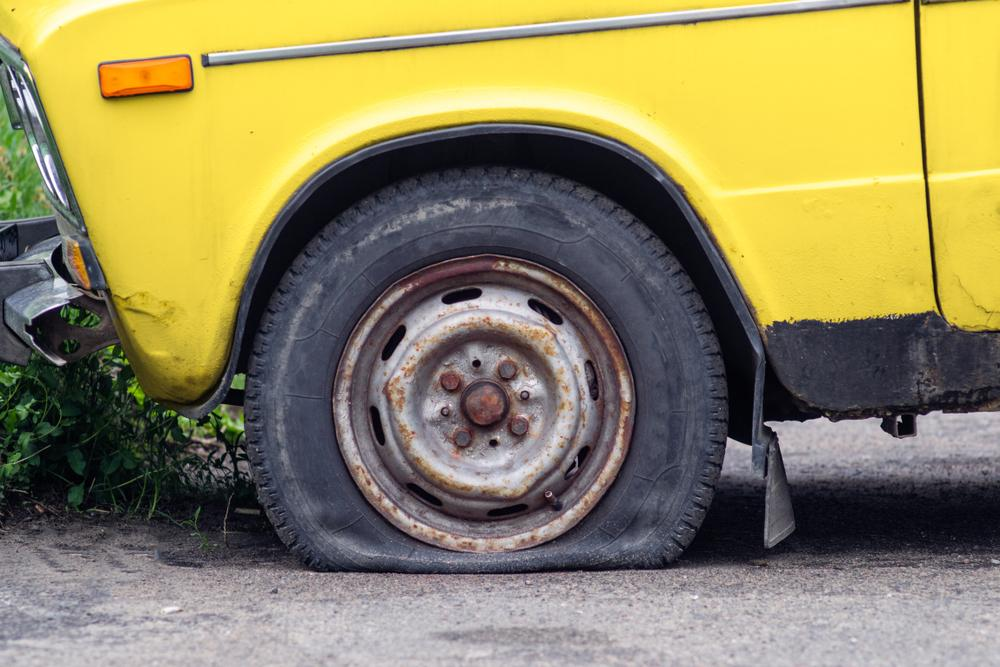tire flat: (241, 163, 730, 574)
